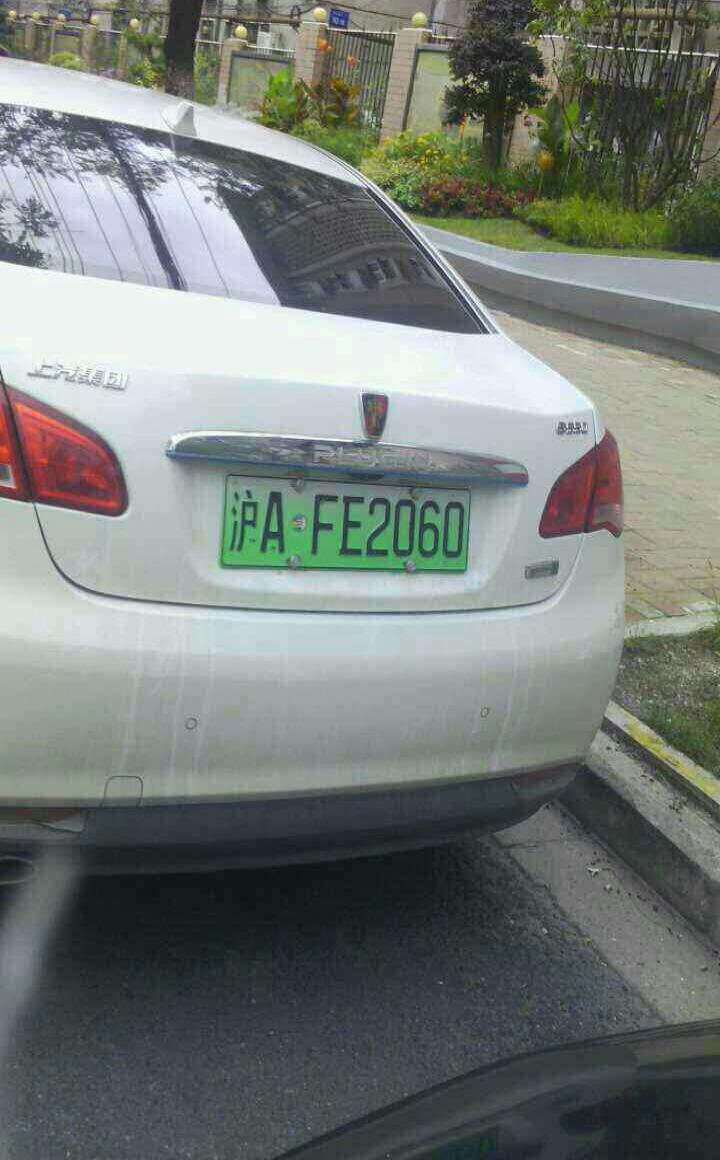car: (214, 468, 481, 578)
